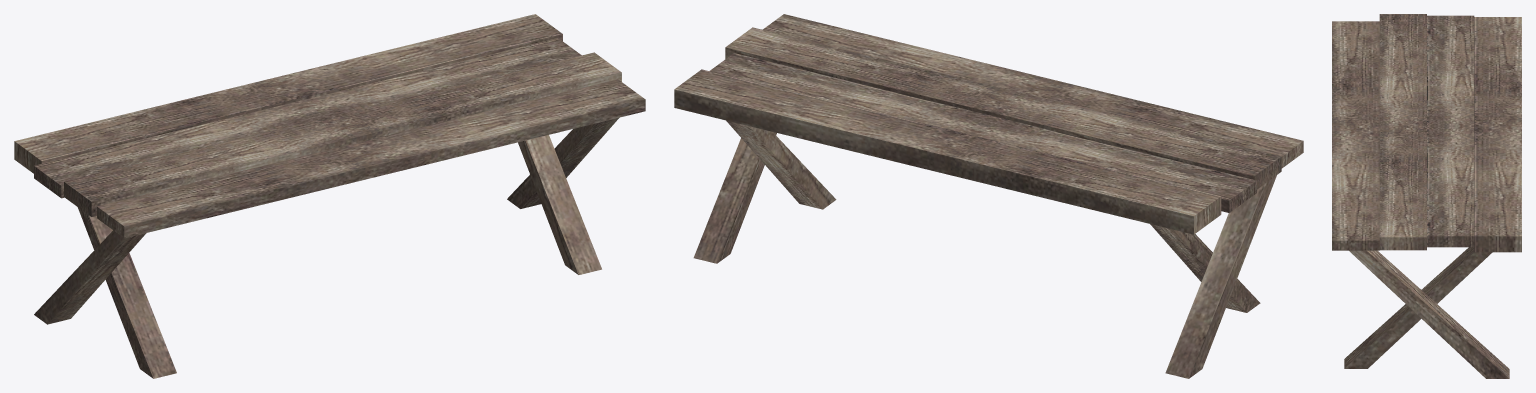
File: Prop_Woodstool1.glb
The picture shows the model from 3 angles, left to right: view 1: azimuth 30°, elevation 25°; view 2: azimuth 150°, elevation 25°; view 3: azimuth 270°, elevation 25°; orthographic projection. The views are drawn at different scales.
Visible parts, largest first — view 1: xiutz_woodstool1; view 2: xiutz_woodstool1; view 3: xiutz_woodstool1.
Boxes of the visible parts, x1=… form: xiutz_woodstool1: x1=14, y1=14, x2=645, y2=378; xiutz_woodstool1: x1=674, y1=14, x2=1303, y2=378; xiutz_woodstool1: x1=1332, y1=14, x2=1521, y2=378.
Size of the model in its own units: 2.98 by 0.9189 by 1.06.
1 material, 1 textured.
